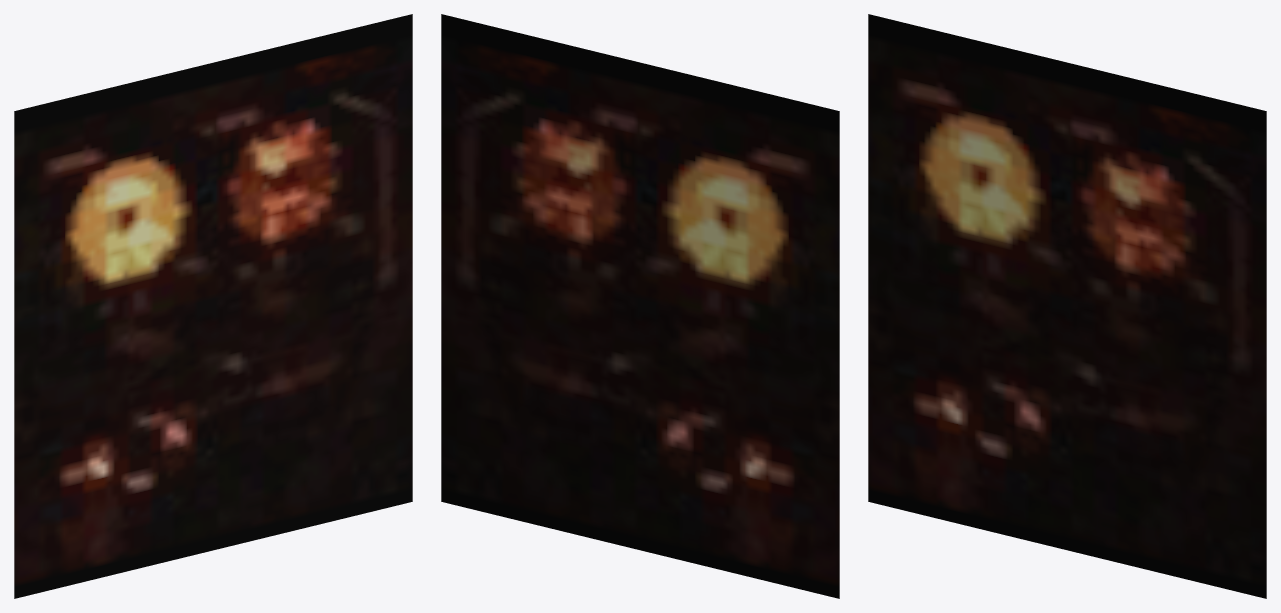
Rendered from plane_interior_panel_light_02.dae.
3 views of the same model, side by side, from view 1: azimuth 30°, elevation 25°; view 2: azimuth 150°, elevation 25°; view 3: azimuth 330°, elevation 25° (orthographic).
Visible parts, largest first — view 1: plane_interior_panel_light_02; view 2: plane_interior_panel_light_02; view 3: plane_interior_panel_light_02.
Boxes of the visible parts, x1,y1,x2,y2 form: plane_interior_panel_light_02: (14,14,412,598); plane_interior_panel_light_02: (441,14,839,598); plane_interior_panel_light_02: (868,14,1266,598).
Bounding box in the file's own units: 39.79 × 46.55 × 0.
